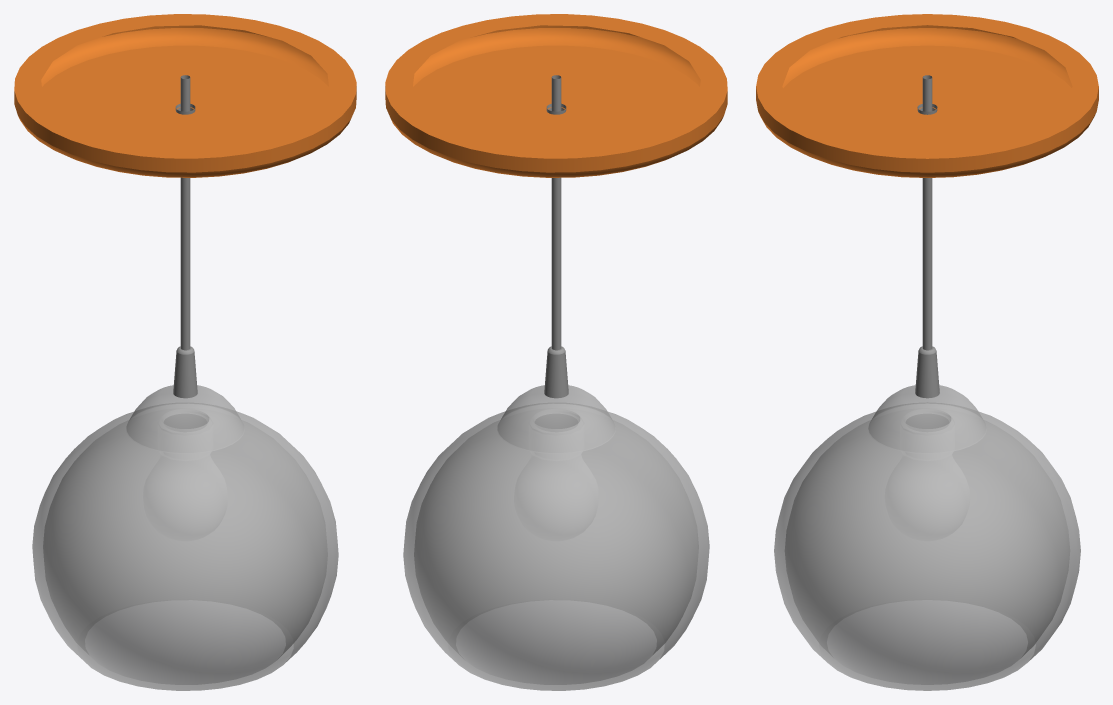
The model's file is Ceiling_Light.glb.
The picture shows the model from 3 angles, left to right: view 1: azimuth 30°, elevation 25°; view 2: azimuth 150°, elevation 25°; view 3: azimuth 270°, elevation 25°; orthographic projection.
Parts seen in each view (by area): view 1: Lamp; view 2: Lamp; view 3: Lamp.
Part boxes in pixels (x1=…): Lamp: x1=14, y1=14, x2=356, y2=690; Lamp: x1=385, y1=14, x2=727, y2=690; Lamp: x1=756, y1=14, x2=1098, y2=690.
Size of the model in its own units: 0.2868 by 0.5243 by 0.2868.
